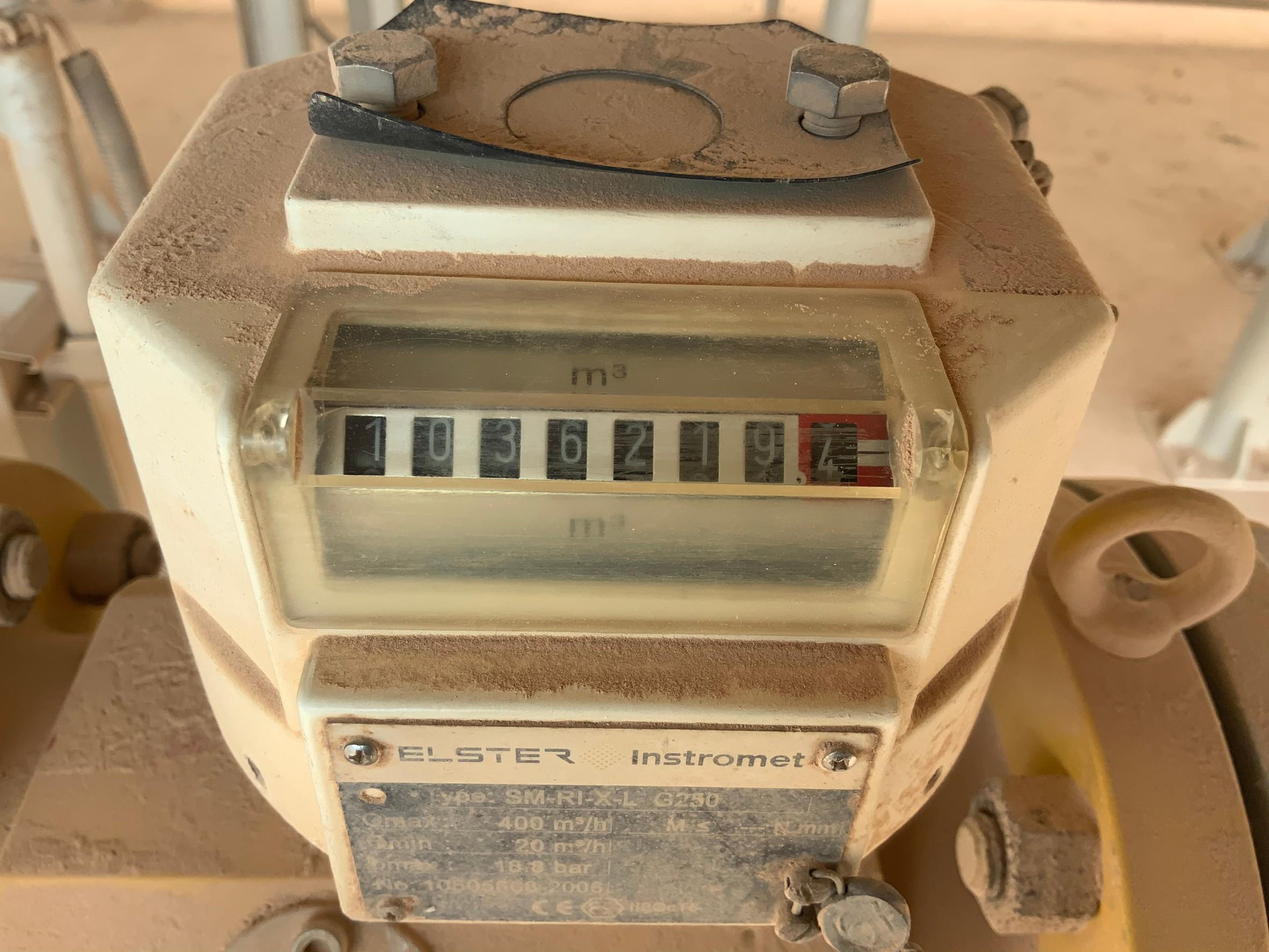analog_dial: (314, 403, 895, 486)
